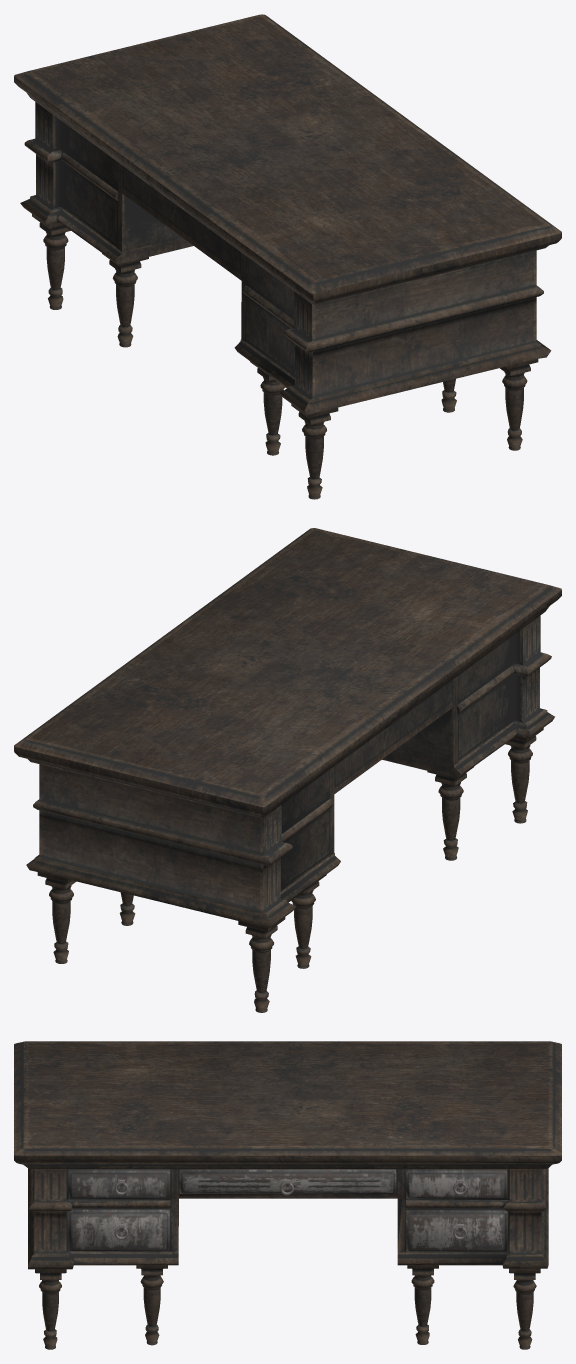
Rendered from Desk.fbx.
3 views of the same model, one above another, from view 1: azimuth 30°, elevation 25°; view 2: azimuth 150°, elevation 25°; view 3: azimuth 270°, elevation 25° (orthographic). The views are drawn at different scales.
Parts seen in each view (by area): view 1: SM_Desk_LOD0; view 2: SM_Desk_LOD0; view 3: SM_Desk_LOD0.
Part boxes in pixels (<box>): SM_Desk_LOD0: <box>14,14,561,499</box>; SM_Desk_LOD0: <box>14,528,561,1012</box>; SM_Desk_LOD0: <box>14,1041,561,1349</box>.
Size of the model in its own units: 120 by 104 by 246.
